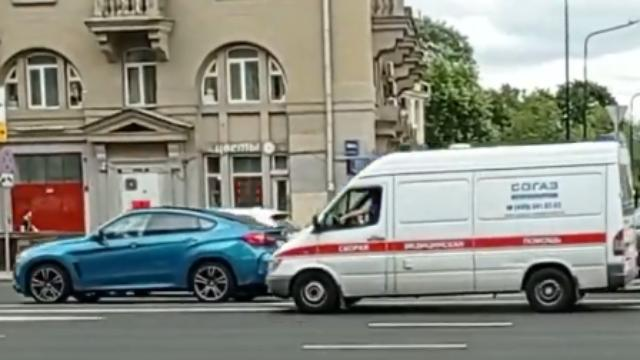ambulance: (267, 142, 635, 313)
non emergency car: (15, 201, 290, 302)
